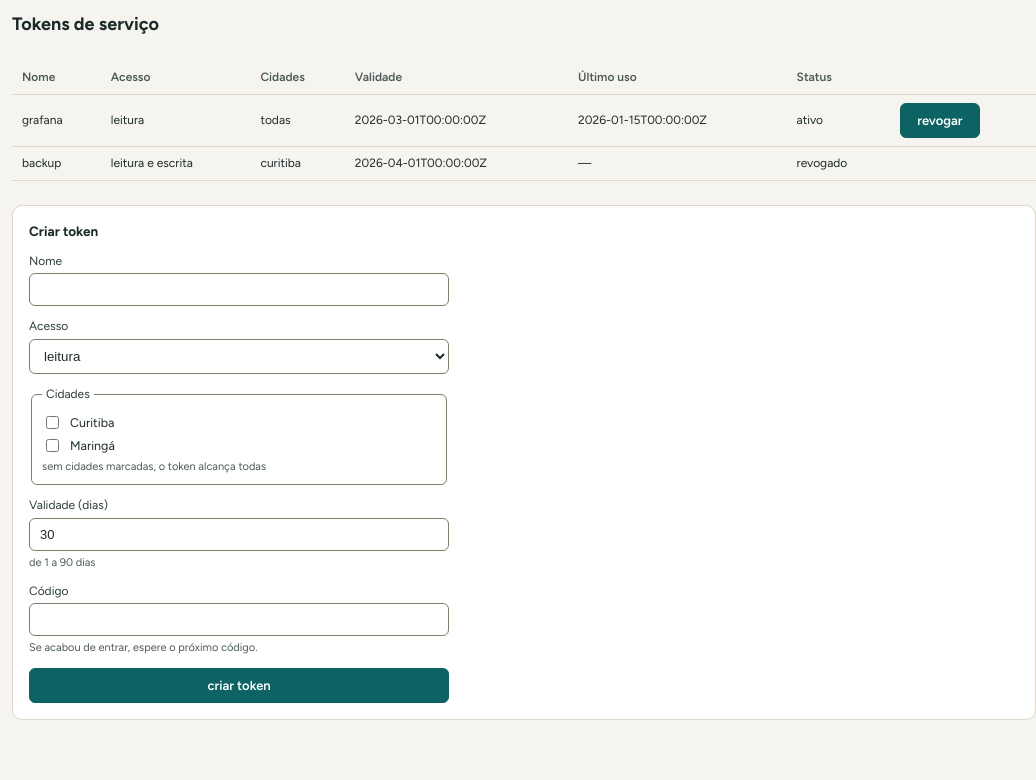
Test: Tokens › cidades sem nenhuma marcada mostra aviso; marcar uma remove o aviso
This screenshot has width=1036, height=780.
Expected: the text "grafana" is shown, [12, 94, 101, 146]
Expected: the text "sem cidades marcadas, o token alcança todas" is shown, [42, 460, 266, 473]
Click the checkbox labelled "Curitiba": (52, 423) [46, 416, 59, 429]
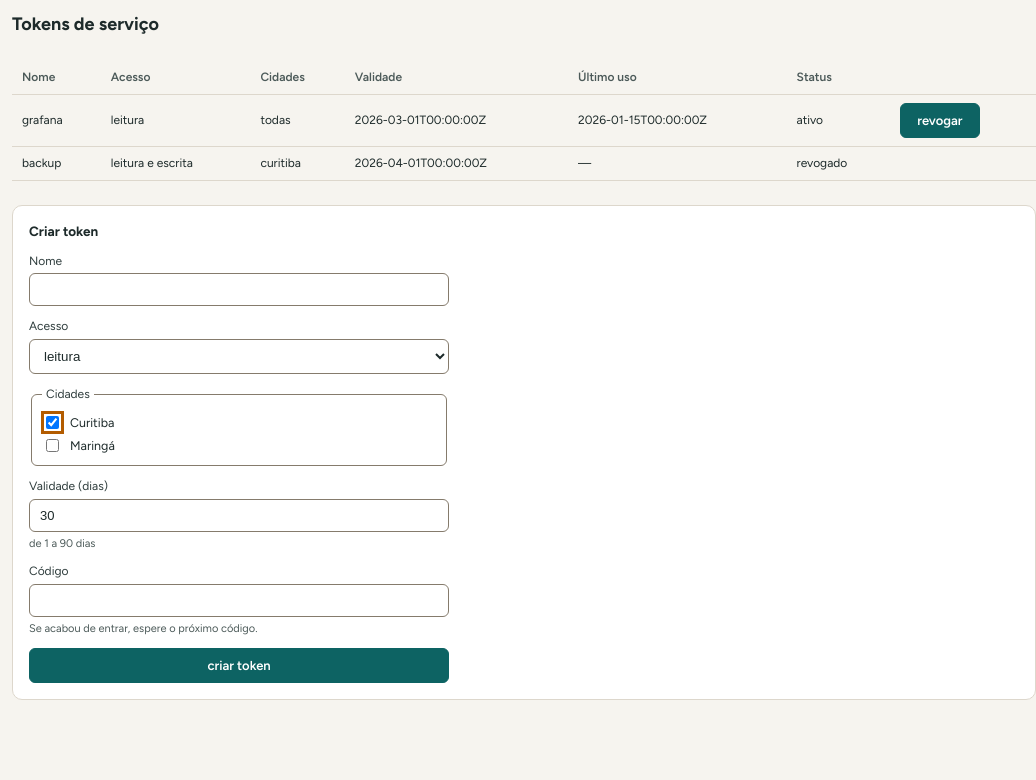
Expected: the text "sem cidades marcadas, o token alcança todas" is gone
